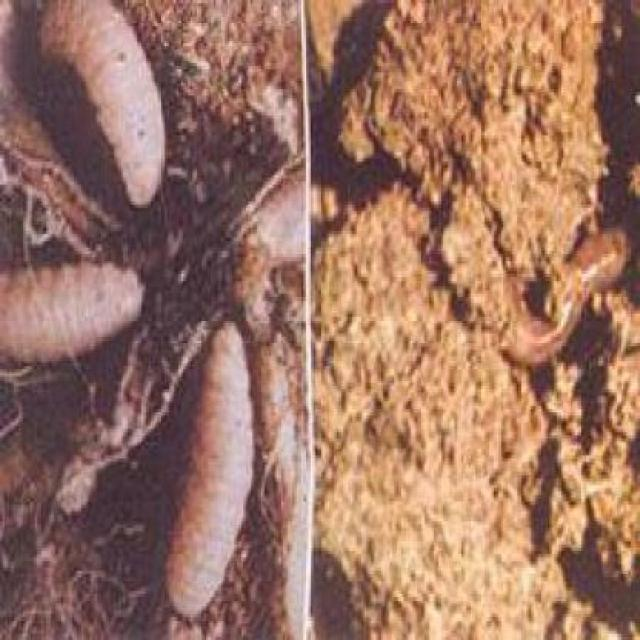whorl-maggot: (155, 312, 263, 619), (31, 0, 178, 215), (0, 249, 151, 361)
